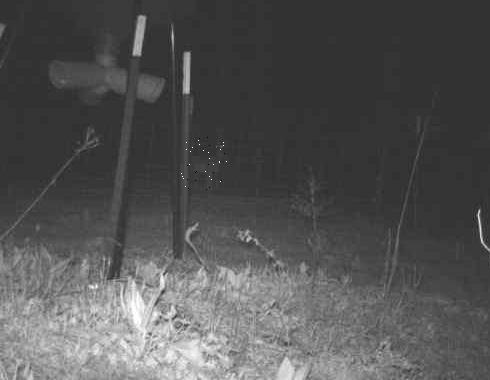Deer: (180, 137, 227, 191)
